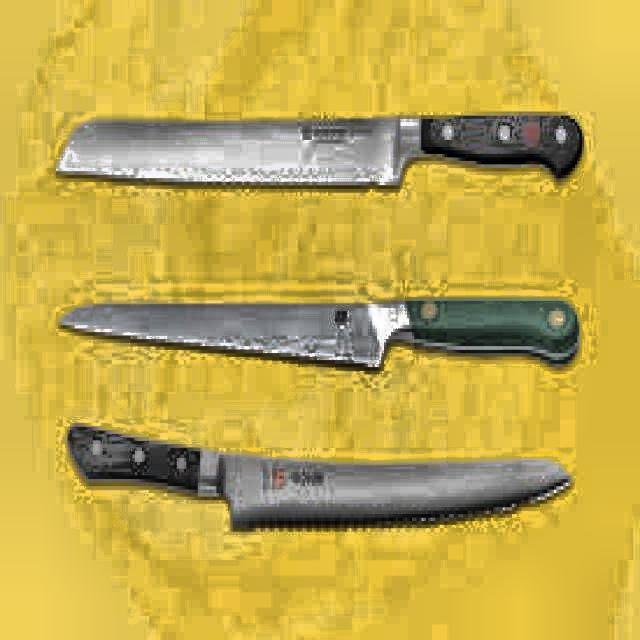knife: (65, 418, 576, 541), (58, 111, 589, 200), (56, 294, 583, 374)
